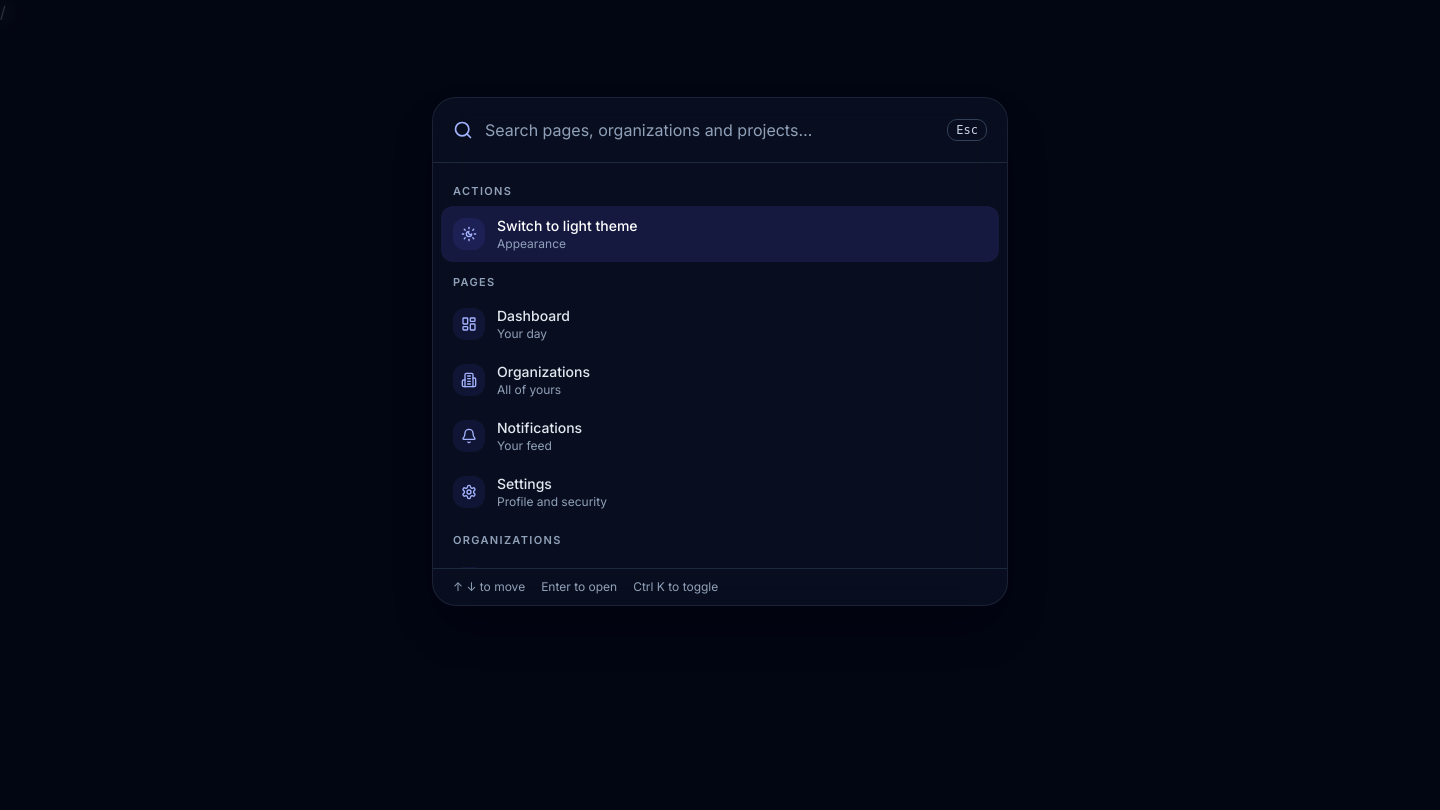
Test case: CommandPalette › puts the best match first: a name starting with the query beats one containing it
Type "ca" into the dropdown labelled "Search pages, organizations and projects…". click: (710, 130)
box: [485,114,935,146]
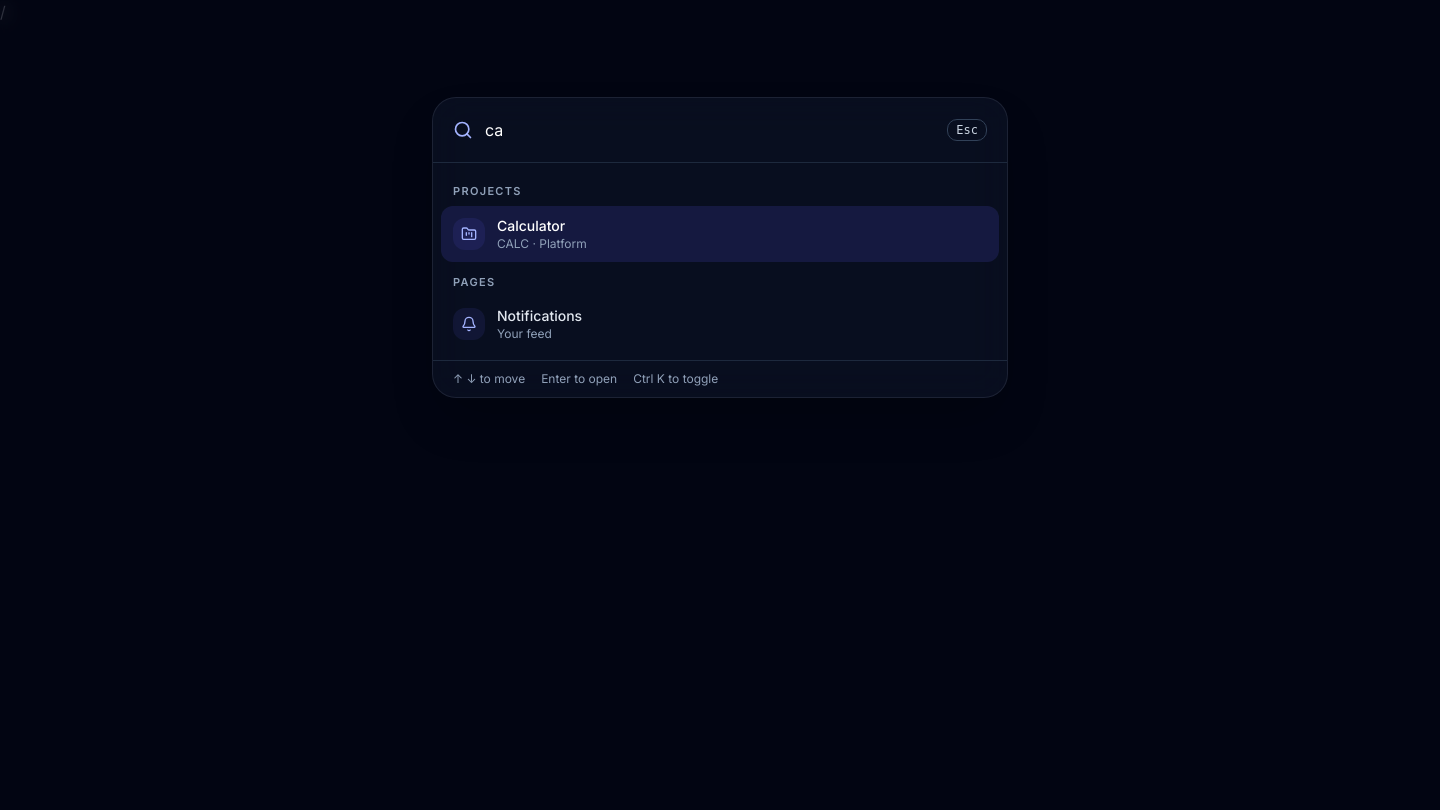
Expected: the option "Calculator CALC · Platform" is shown, [441,206,999,262]
